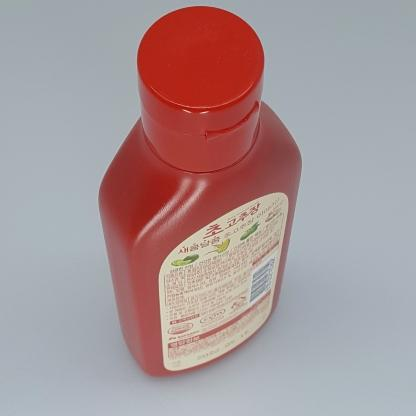---------: (98, 6, 302, 377)
